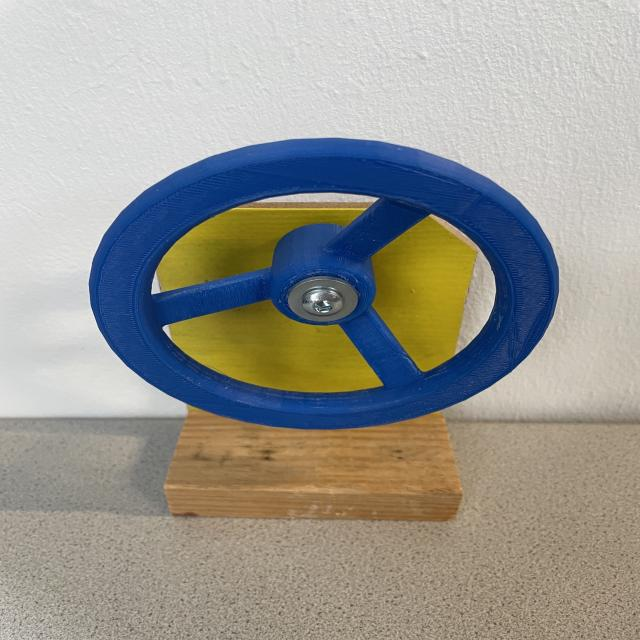Wheel Handle Valve Threaded: (88, 136, 560, 431)
